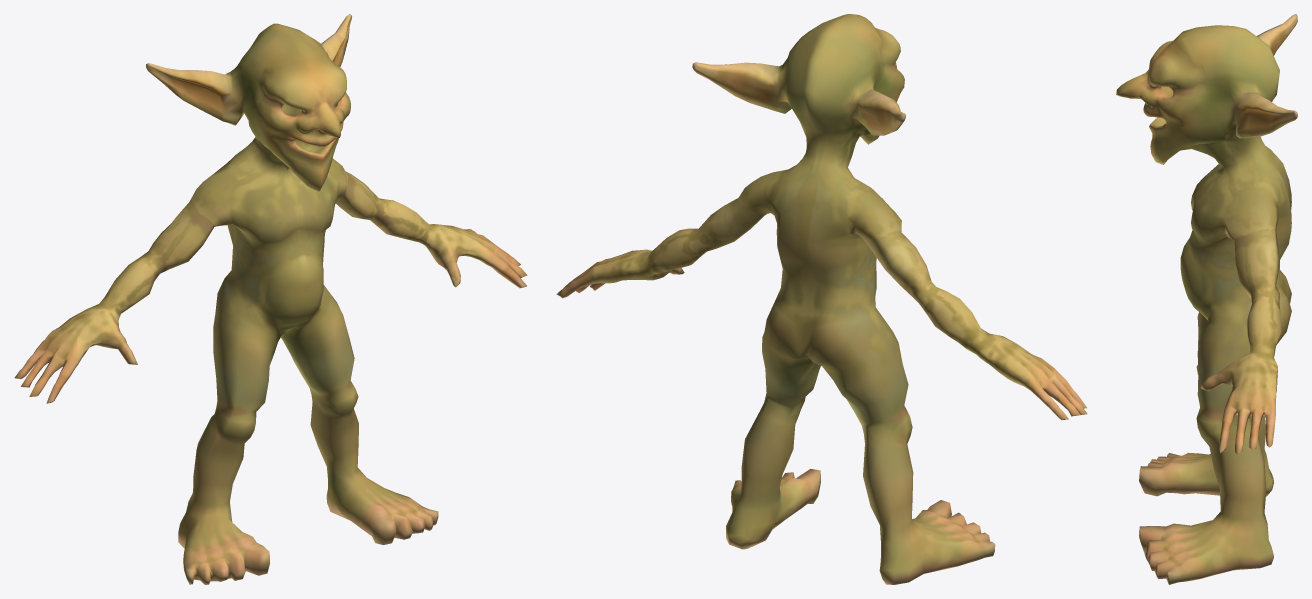
The model's file is GobTriMtrl.fbx.
The picture shows the model from 3 angles, left to right: view 1: azimuth 30°, elevation 25°; view 2: azimuth 150°, elevation 25°; view 3: azimuth 270°, elevation 25°; orthographic projection. The views are drawn at different scales.
Parts seen in each view (by area): view 1: polySurface2; view 2: polySurface2; view 3: polySurface2.
Boxes of the visible parts, bbox=[...] form: polySurface2: bbox=[14, 14, 527, 584]; polySurface2: bbox=[556, 14, 1087, 584]; polySurface2: bbox=[1116, 14, 1297, 584].
Size of the model in its own units: 4.35 by 4.26 by 1.39.
1 material, 1 textured.
